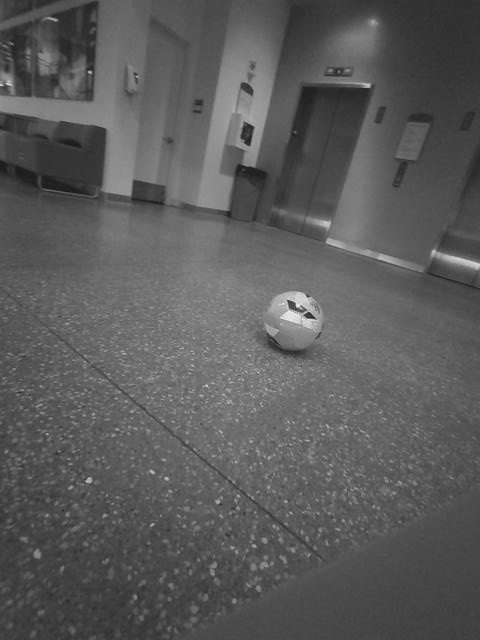ball: (257, 281, 332, 358)
